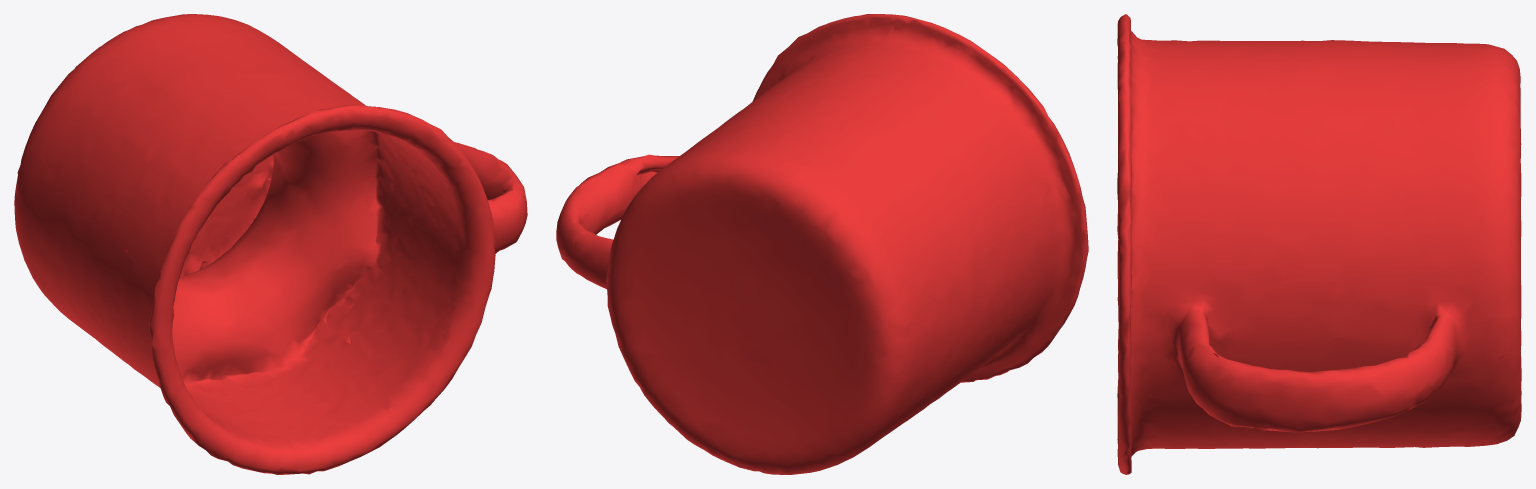
3 renders of one model, left to right at view 1: azimuth 30°, elevation 25°; view 2: azimuth 150°, elevation 25°; view 3: azimuth 270°, elevation 25°, orthographic. The views are drawn at different scales.
Visible parts, largest first — view 1: textured; view 2: textured; view 3: textured.
Boxes of the visible parts, <box> form: textured: <box>14,14,527,474</box>; textured: <box>556,14,1088,474</box>; textured: <box>1117,14,1521,474</box>.
Bounding box in the file's own units: 0.0647 × 0.0515 × 0.045.
